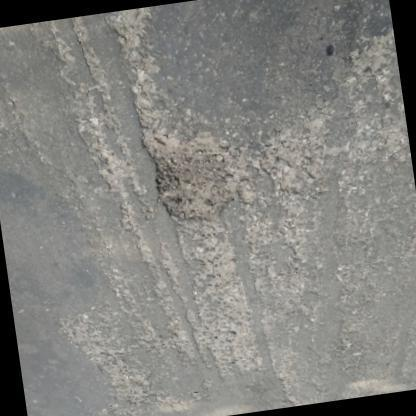pothole: (175, 237, 266, 381), (136, 118, 244, 230), (340, 32, 411, 164), (256, 120, 332, 200)
